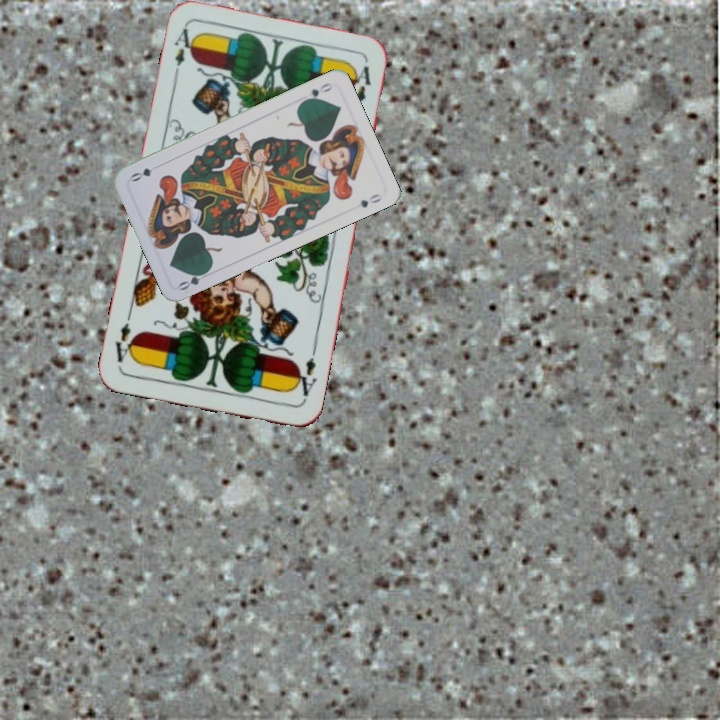EA: (170, 24, 199, 82), (290, 353, 319, 403)
GO: (175, 266, 212, 293), (298, 79, 335, 105)
